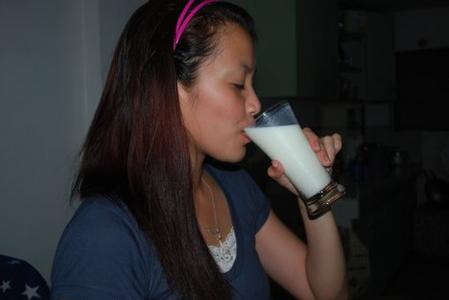person: (44, 2, 354, 300)
